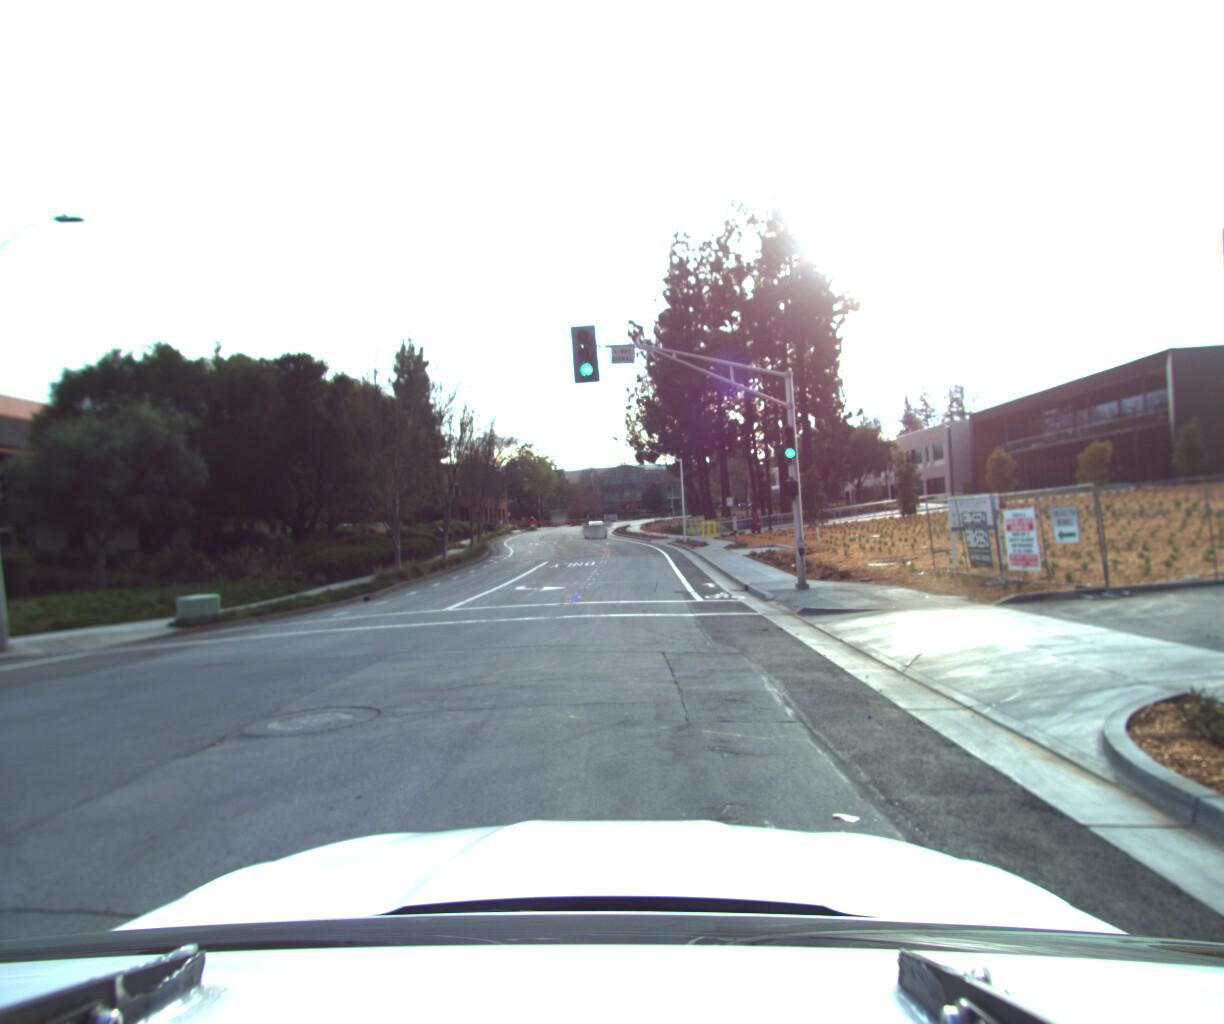car: (586, 516, 613, 538)
